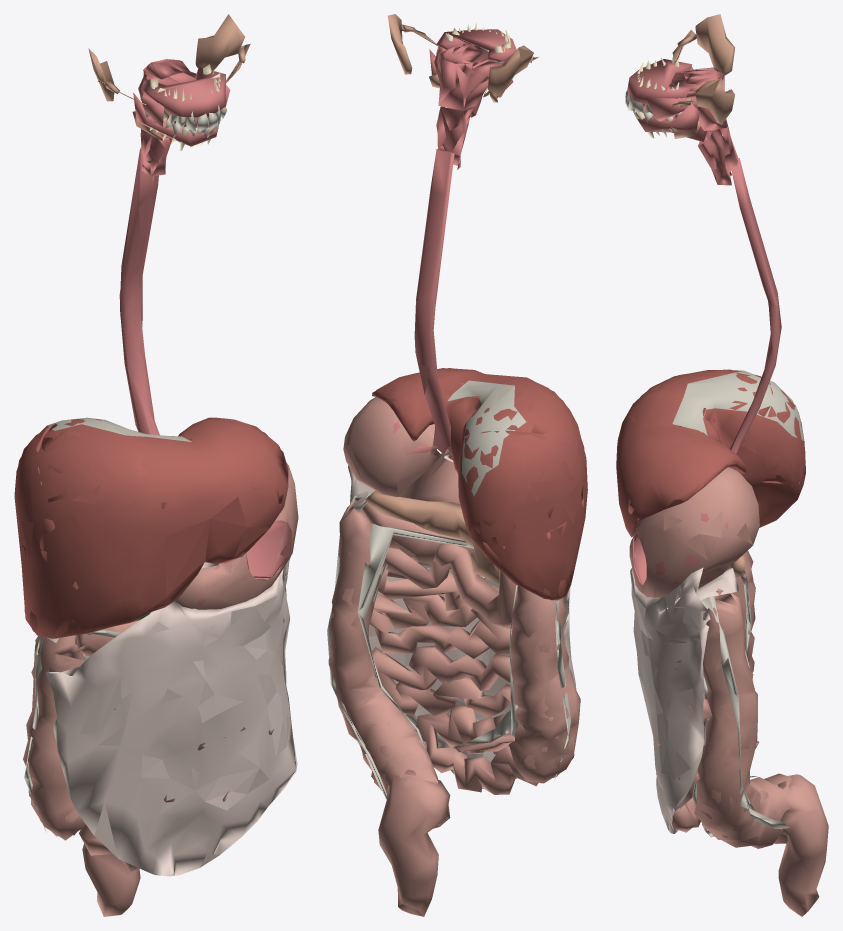
Rendered from adult_male.digestive.LOD4.glb.
3 views of the same model, side by side, from view 1: azimuth 30°, elevation 25°; view 2: azimuth 150°, elevation 25°; view 3: azimuth 270°, elevation 25° (orthographic). The views are drawn at different scales.
Visible parts, largest first — view 1: ADULT.MALE.DIGESTIVE.GREATER_OMENTUM, ADULT.MALE.DIGESTIVE.LIVER, ADULT.MALE.DIGESTIVE.ASCENDING_COLON, ADULT.MALE.DIGESTIVE.OESOPHAGUS, ADULT.MALE.DIGESTIVE.STOMACH, ADULT.MALE.DIGESTIVE.GINGIVA, ADULT.MALE.DIGESTIVE.POSTERIOR_MEDIAL_SEGMENT_OF_LIVER_VIII, ADULT.MALE.DIGESTIVE.RECTUM, ADULT.MALE.DIGESTIVE.MUCOSA_OF_STOMACH, ADULT.MALE.DIGESTIVE.PAROTID_GLAND.L, ADULT.MALE.DIGESTIVE.LARYNGOPHARYNX, ADULT.MALE.DIGESTIVE.SOFT_PALATE (+6 smaller); view 2: ADULT.MALE.DIGESTIVE.LIVER, ADULT.MALE.DIGESTIVE.JEJUNUM_AND_ILEUM, ADULT.MALE.DIGESTIVE.DESCENDING_AND_SIGMOID_COLON, ADULT.MALE.DIGESTIVE.ASCENDING_COLON, ADULT.MALE.DIGESTIVE.STOMACH, ADULT.MALE.DIGESTIVE.RECTUM, ADULT.MALE.DIGESTIVE.OESOPHAGUS, ADULT.MALE.DIGESTIVE.POSTERIOR_LATERAL_SEGMENT_OF_LIVER_VII, ADULT.MALE.DIGESTIVE.GREATER_OMENTUM, ADULT.MALE.DIGESTIVE.PANCREAS, ADULT.MALE.DIGESTIVE.DUODENUM, ADULT.MALE.DIGESTIVE.FREE_TAENIA (+12 smaller); view 3: ADULT.MALE.DIGESTIVE.LIVER, ADULT.MALE.DIGESTIVE.GREATER_OMENTUM, ADULT.MALE.DIGESTIVE.DESCENDING_AND_SIGMOID_COLON, ADULT.MALE.DIGESTIVE.STOMACH, ADULT.MALE.DIGESTIVE.RECTUM, ADULT.MALE.DIGESTIVE.OESOPHAGUS, ADULT.MALE.DIGESTIVE.GINGIVA, ADULT.MALE.DIGESTIVE.MESOCOLIC_TAENIA, ADULT.MALE.DIGESTIVE.LEFT_POSTERIOR_LATERAL_SEGMENT_OF_LIVER, ADULT.MALE.DIGESTIVE.LARYNGOPHARYNX, ADULT.MALE.DIGESTIVE.PAROTID_GLAND.R, ADULT.MALE.DIGESTIVE.OROPHARYNX (+9 smaller).
Boxes of the visible parts, x1,y1,x2,y2 form: ADULT.MALE.DIGESTIVE.GREATER_OMENTUM: [46, 559, 297, 876]; ADULT.MALE.DIGESTIVE.LIVER: [14, 417, 288, 638]; ADULT.MALE.DIGESTIVE.ASCENDING_COLON: [23, 636, 85, 840]; ADULT.MALE.DIGESTIVE.OESOPHAGUS: [119, 147, 159, 435]; ADULT.MALE.DIGESTIVE.STOMACH: [175, 462, 298, 609]; ADULT.MALE.DIGESTIVE.GINGIVA: [133, 67, 225, 146]; ADULT.MALE.DIGESTIVE.POSTERIOR_MEDIAL_SEGMENT_OF_LIVER_VIII: [41, 419, 160, 528]; ADULT.MALE.DIGESTIVE.RECTUM: [82, 843, 140, 916]; ADULT.MALE.DIGESTIVE.MUCOSA_OF_STOMACH: [197, 518, 296, 605]; ADULT.MALE.DIGESTIVE.PAROTID_GLAND.L: [195, 14, 244, 70]; ADULT.MALE.DIGESTIVE.LARYNGOPHARYNX: [140, 129, 172, 176]; ADULT.MALE.DIGESTIVE.SOFT_PALATE: [143, 59, 196, 85]; ADULT.MALE.DIGESTIVE.LIVER: [372, 368, 587, 600]; ADULT.MALE.DIGESTIVE.JEJUNUM_AND_ILEUM: [369, 547, 538, 794]; ADULT.MALE.DIGESTIVE.DESCENDING_AND_SIGMOID_COLON: [328, 500, 450, 828]; ADULT.MALE.DIGESTIVE.ASCENDING_COLON: [509, 586, 580, 783]; ADULT.MALE.DIGESTIVE.STOMACH: [343, 397, 460, 504]; ADULT.MALE.DIGESTIVE.RECTUM: [378, 769, 450, 916]; ADULT.MALE.DIGESTIVE.OESOPHAGUS: [414, 148, 454, 454]; ADULT.MALE.DIGESTIVE.POSTERIOR_LATERAL_SEGMENT_OF_LIVER_VII: [459, 430, 585, 544]; ADULT.MALE.DIGESTIVE.GREATER_OMENTUM: [348, 465, 576, 788]; ADULT.MALE.DIGESTIVE.PANCREAS: [365, 491, 499, 583]; ADULT.MALE.DIGESTIVE.DUODENUM: [433, 543, 517, 627]; ADULT.MALE.DIGESTIVE.FREE_TAENIA: [358, 523, 517, 758]; ADULT.MALE.DIGESTIVE.LIVER: [616, 370, 805, 537]; ADULT.MALE.DIGESTIVE.GREATER_OMENTUM: [630, 567, 710, 833]; ADULT.MALE.DIGESTIVE.DESCENDING_AND_SIGMOID_COLON: [694, 593, 795, 848]; ADULT.MALE.DIGESTIVE.STOMACH: [629, 467, 759, 597]; ADULT.MALE.DIGESTIVE.RECTUM: [777, 774, 828, 916]; ADULT.MALE.DIGESTIVE.OESOPHAGUS: [730, 158, 781, 453]; ADULT.MALE.DIGESTIVE.GINGIVA: [627, 59, 699, 132]; ADULT.MALE.DIGESTIVE.MESOCOLIC_TAENIA: [700, 596, 789, 828]; ADULT.MALE.DIGESTIVE.LEFT_POSTERIOR_LATERAL_SEGMENT_OF_LIVER: [620, 425, 743, 520]; ADULT.MALE.DIGESTIVE.LARYNGOPHARYNX: [698, 119, 737, 185]; ADULT.MALE.DIGESTIVE.PAROTID_GLAND.R: [695, 14, 734, 75]; ADULT.MALE.DIGESTIVE.OROPHARYNX: [646, 68, 726, 130].
Size of the model in its own units: 0.23 by 0.7728 by 0.1716.
